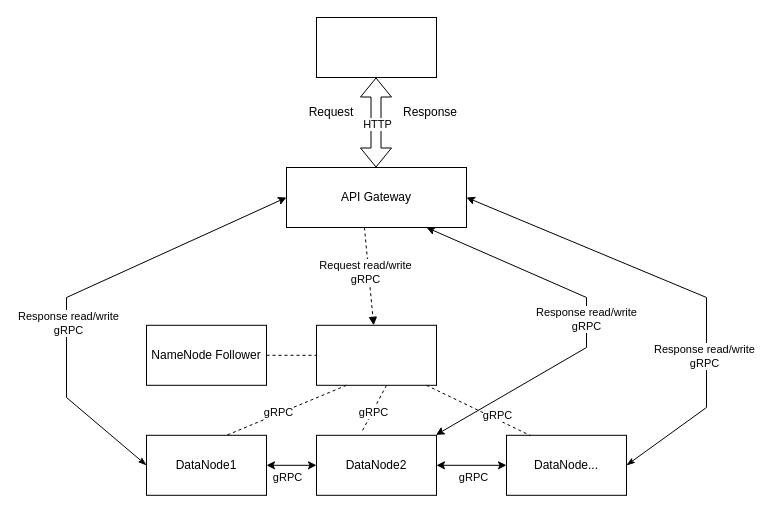
The diagram is 771 pixels wide and 513 high, and some of its shapes have lost their labels. The box of each missing label's shape, as (x1, y1, x2, y2) in pixels:
Cliente (CLI): (316, 16, 436, 78)
NameNode Leader: (316, 324, 436, 385)
